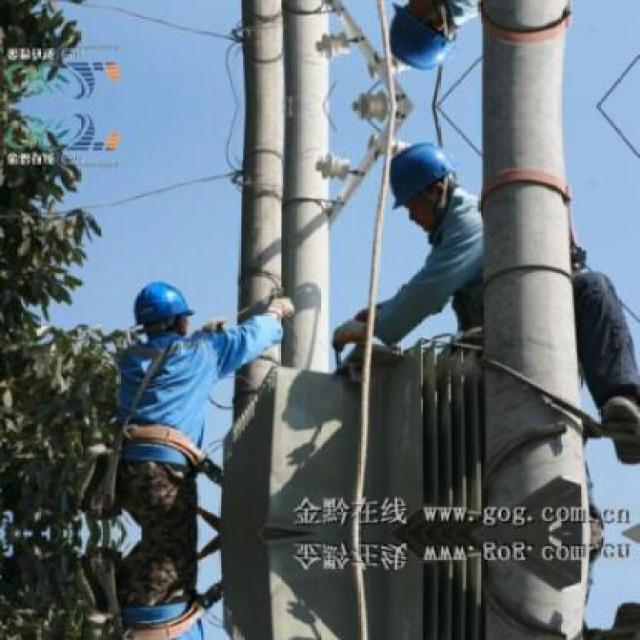helmet: (386, 132, 457, 224), (386, 0, 459, 82), (131, 276, 195, 342)
